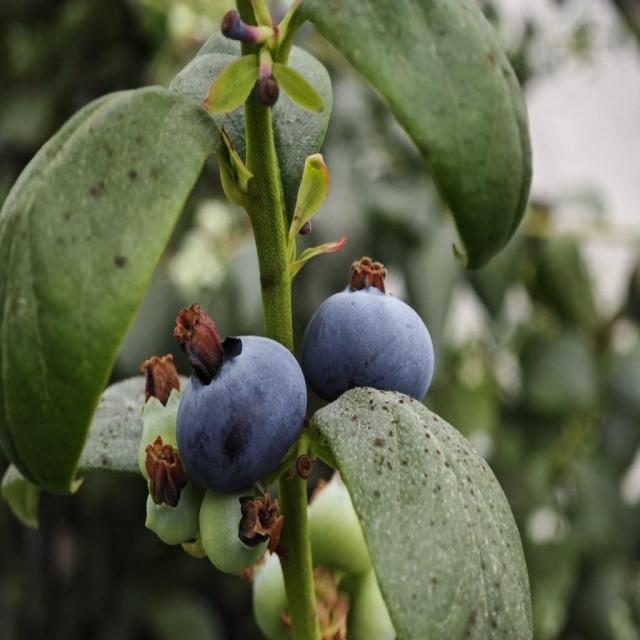RipeBlueBerry: (172, 325, 312, 494), (302, 274, 437, 402)
UnripeBlueBerry: (198, 485, 276, 575)
